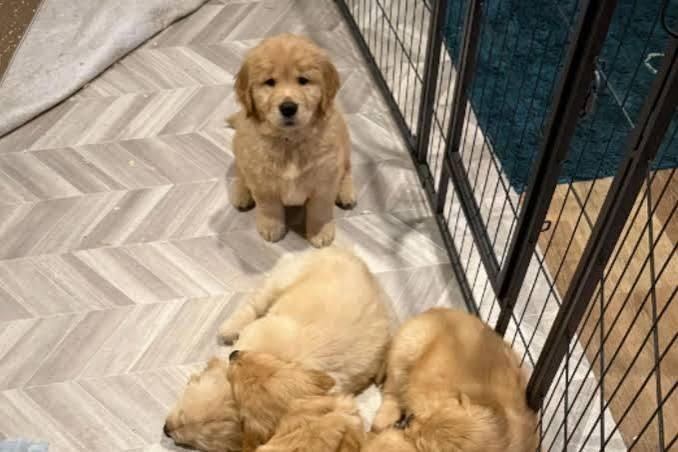puppy-dog: (162, 244, 392, 446), (226, 35, 359, 249), (370, 308, 539, 452), (259, 396, 422, 452)
